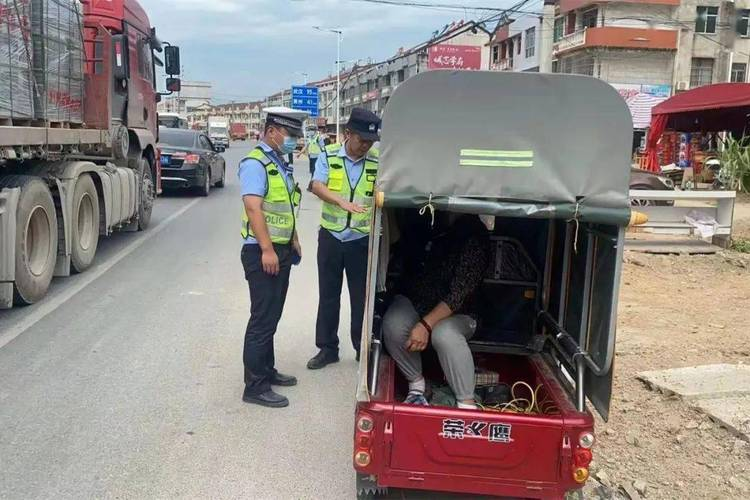overloading: (355, 71, 636, 493)
passenger: (377, 195, 514, 443)
